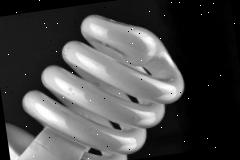lightbulb: (0, 2, 194, 160)
